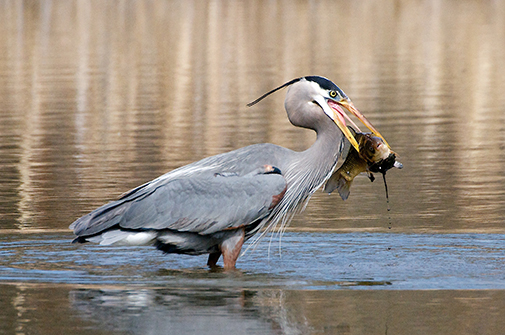heron: (68, 71, 404, 278)
